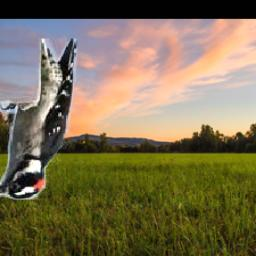Woodpecker: (0, 40, 79, 200)
